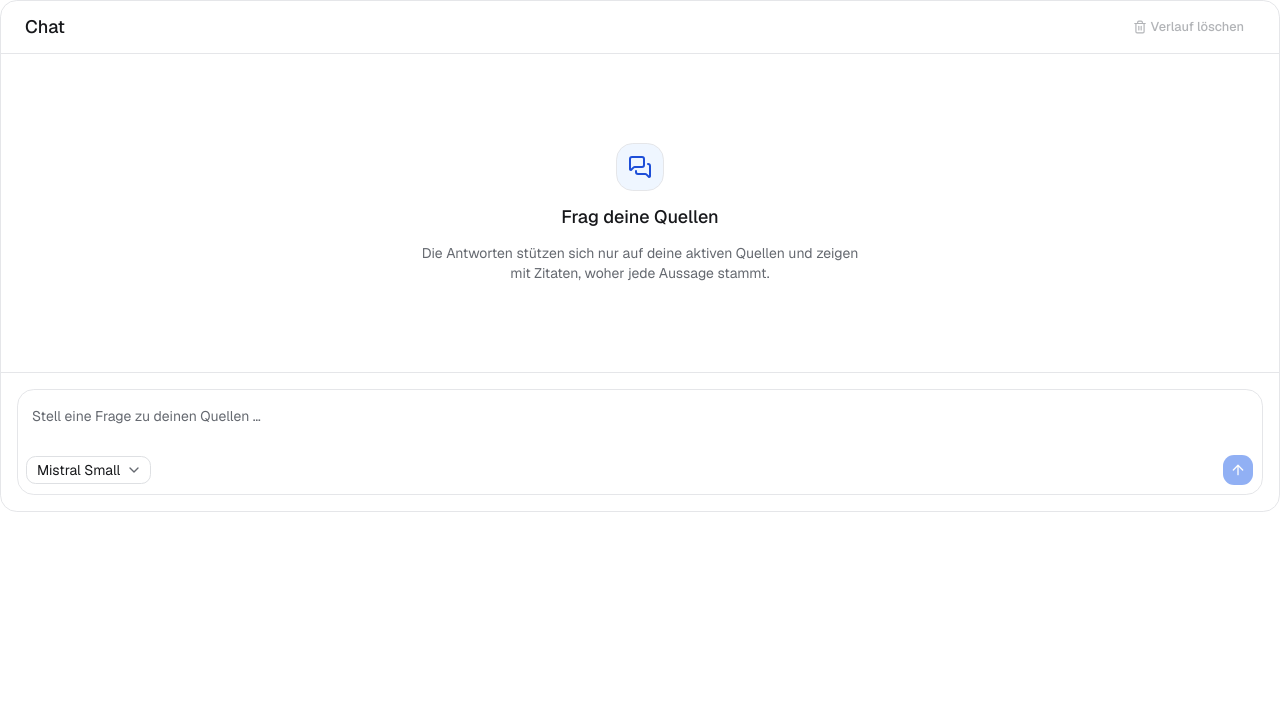
Scenario: ChatPanel › model picker › preselects the default model and labels local models
Check: the text box labelled "Frage" is enabled, box [26,398,1254,446]
Click the dropdown named "Modell". click: click(89, 470)
box: [26,456,151,484]
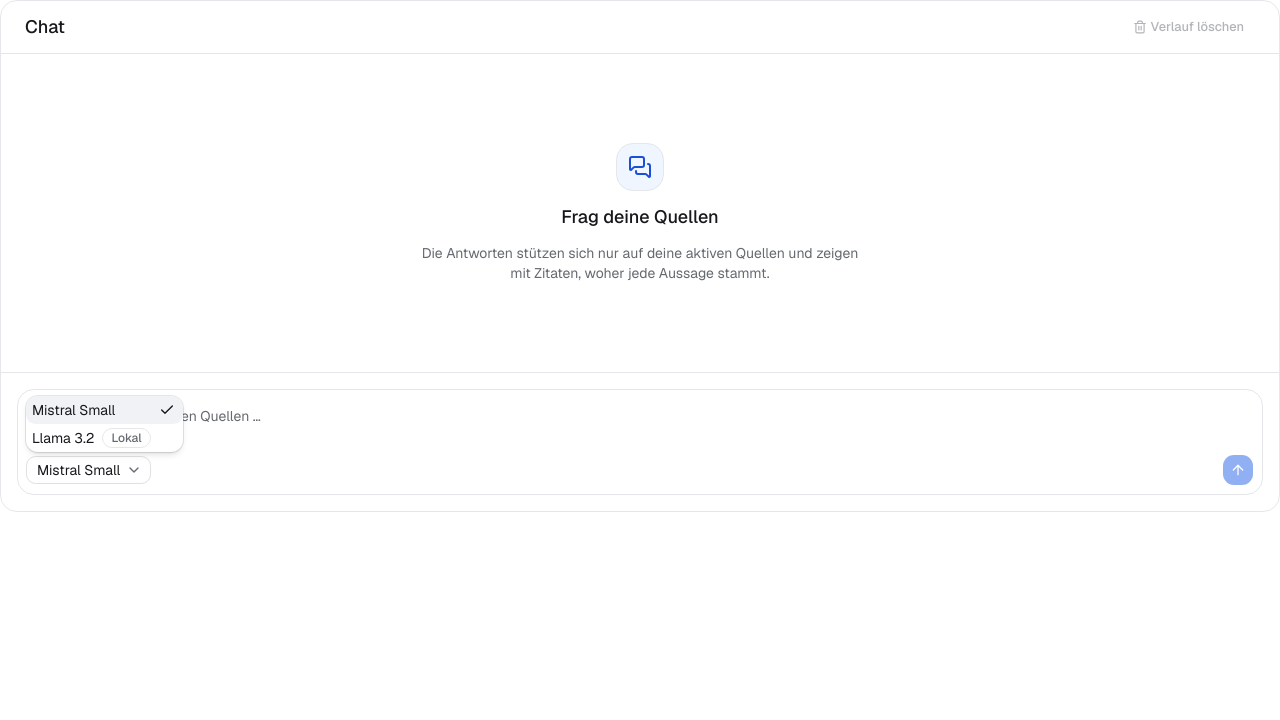
Check: the option "Llama 3.2 Lokal" is shown, box [32,428,151,448]
